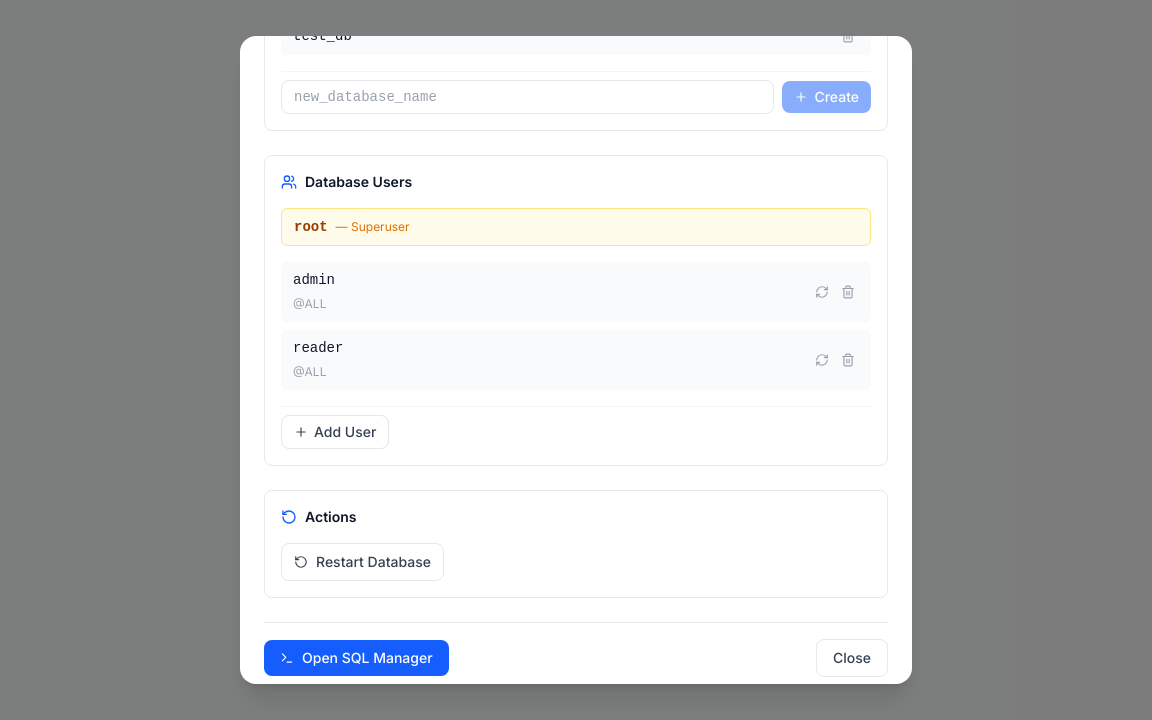
Test: DatabaseManagementModal › shows delete confirmation for user
(page scrolled)
Click the button with test id "user-delete-reader" at coordinates (848, 360), box [837,349,859,371]
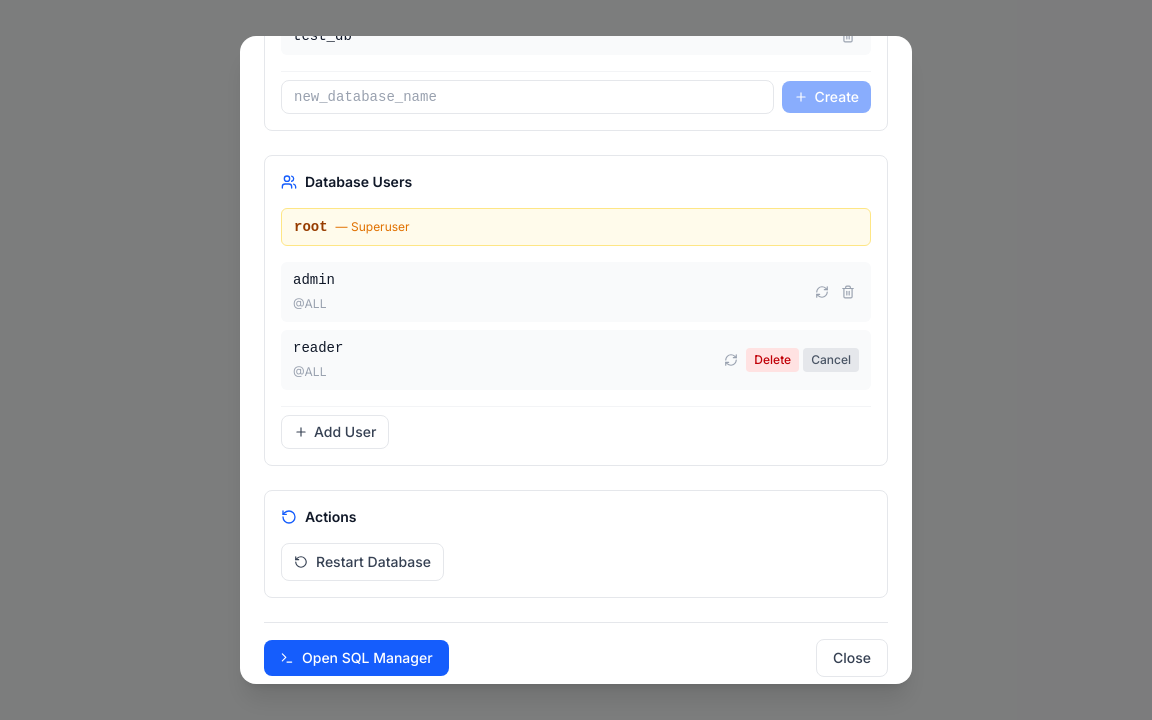
Expected: the button with test id "user-delete-confirm-reader" is shown, [746,348,799,372]
Expected: the button with test id "user-delete-cancel-reader" is shown, [803,348,859,372]
